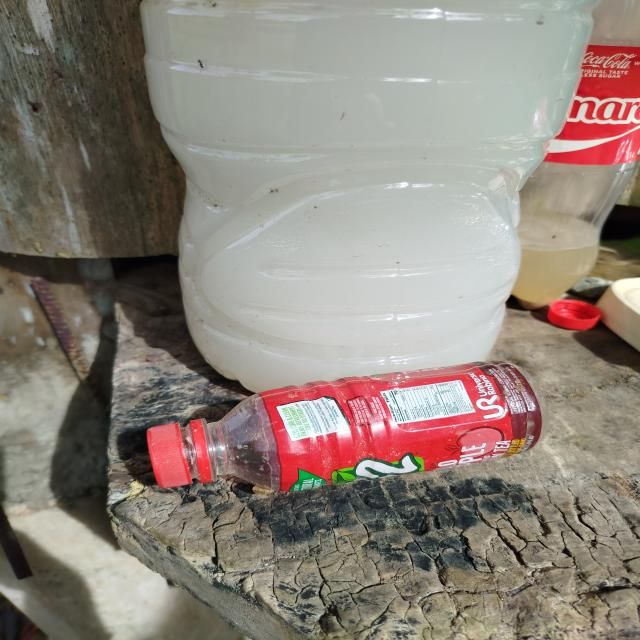plastic: (116, 0, 592, 394), (129, 353, 555, 496), (501, 0, 640, 308)
